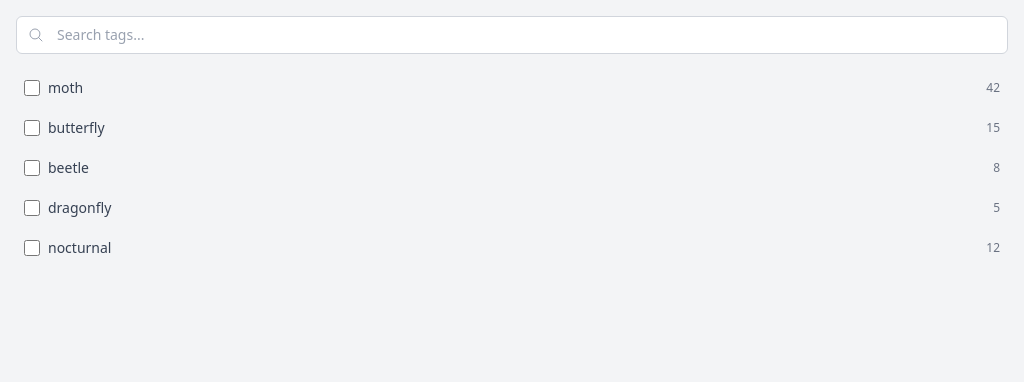
TagFilter › Match Mode Toggle › toggles between "Any" and "All" when clicked
Click the checkbox named "select tag moth": (32, 88) [24,80,40,96]
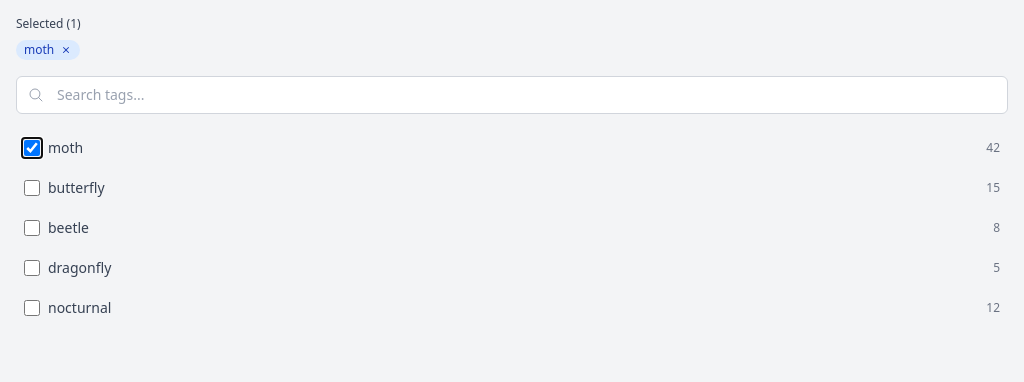
Click the checkbox named "select tag butterfly": (32, 188) [24,180,40,196]
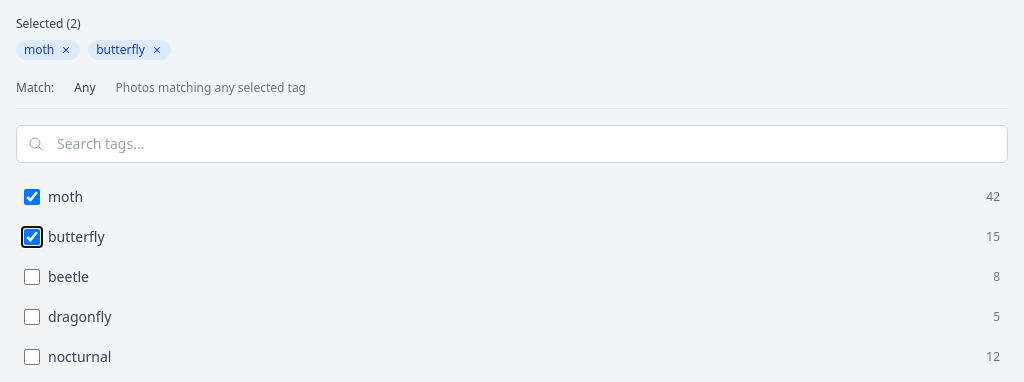
Now the button "Any" is shown
Click the button with aria-label "match mode": (85, 88) [62,76,108,100]
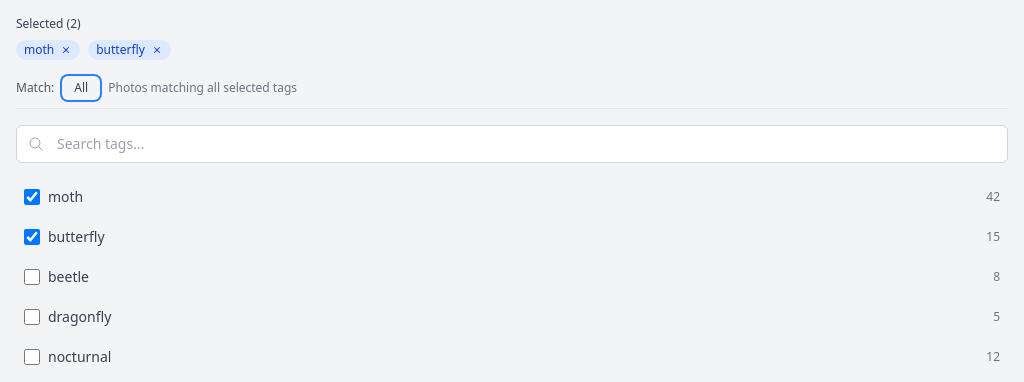
Now the button "All" is shown
Click the button "All": (81, 88) [62,76,100,100]
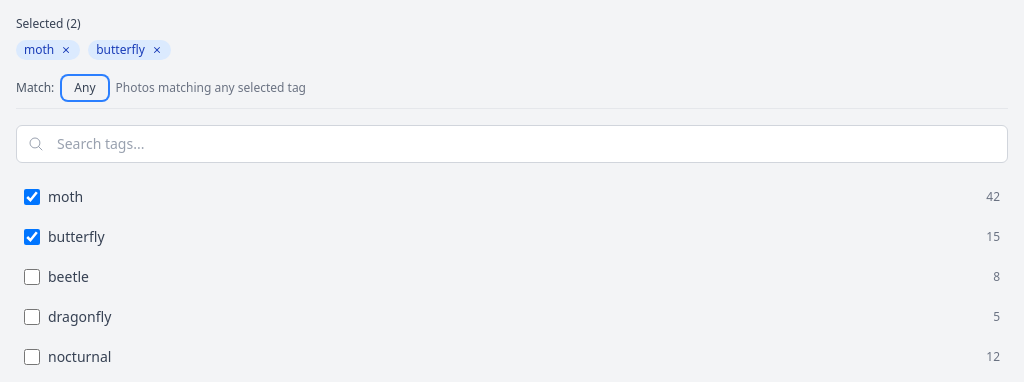
Now the button "Any" is shown, box [62,76,108,100]
